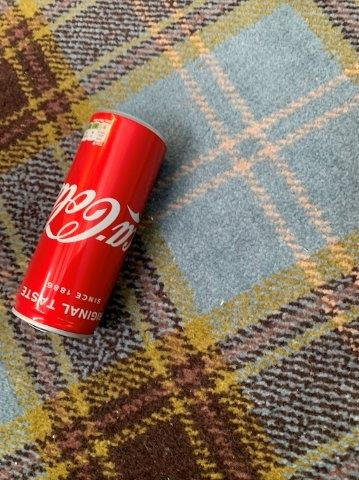kaleng: (15, 111, 168, 340)
